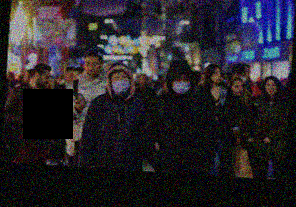with_mask: (110, 72, 131, 95), (170, 73, 191, 95)
without_mask: (82, 59, 100, 76), (35, 73, 50, 89), (210, 68, 222, 85), (264, 81, 277, 96), (231, 82, 244, 96), (139, 75, 147, 87)
